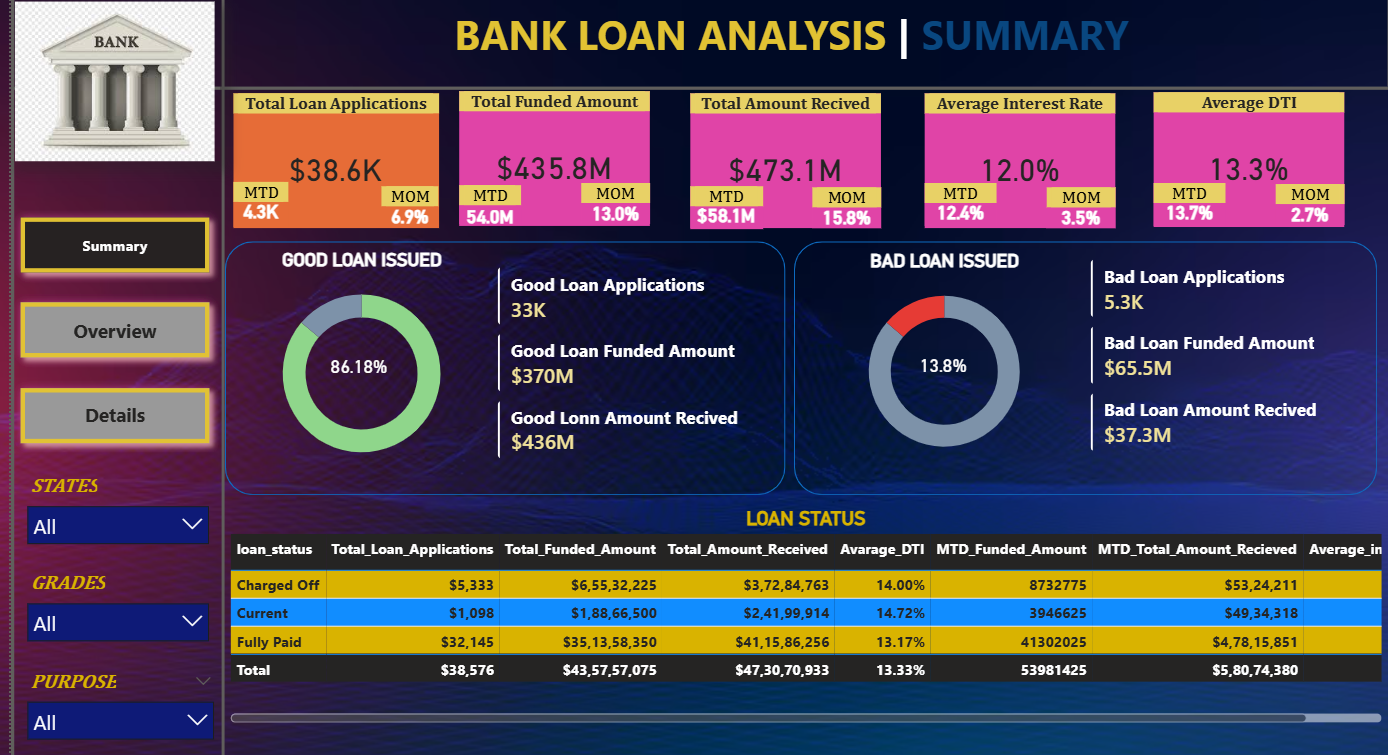

The dashboard page shown, as its layout file describes it:
{"tool":"powerbi","page":{"name":"Summary","canvas":[1280,720],"ordinal":0},"visuals":[{"type":"actionButton","box":[0,0,1280,88.9],"z":0},{"type":"actionButton","box":[0,0,198.4,711.4],"z":1000},{"type":"textbox","box":[389,7,671,60],"z":2000},{"type":"card","title":"Total Loan Applications","fields":{"Values":["Good_Loan_%.Total_Loan_Applications"]},"box":[206.4,92.2,190.4,125.2],"z":3000},{"type":"card","title":"MTD","fields":{"Values":["Good_Loan_%.MTD_Loan_App"]},"box":[206.4,174.3,51.1,42.1],"z":4000},{"type":"card","title":"MOM","fields":{"Values":["Good_Loan_%.MOM_Loan_Applications"]},"box":[343.7,178.4,53.1,38.1],"z":5000},{"type":"card","title":"Total Funded Amount","fields":{"Values":["Good_Loan_%.Total_Funded_Amount"]},"box":[416,90,177,125],"z":6000},{"type":"card","title":"MTD","fields":{"Values":["Good_Loan_%.MTD_Funded_Amount"]},"box":[415.8,177.4,57.1,36.1],"z":7000},{"type":"card","title":"MOM","fields":{"Values":["Good_Loan_%.MOM_Total Funded_Amount"]},"box":[529,175,64,38],"z":8000},{"type":"card","title":"Total Amount Recived","fields":{"Values":["Good_Loan_%.Total_Amount_Received"]},"box":[630,92,177,125],"z":9000},{"type":"card","title":"MTD","fields":{"Values":["Good_Loan_%.MTD_Total_Amount_Recieved"]},"box":[630.2,178.4,67.1,40.1],"z":10000},{"type":"card","title":"MOM","fields":{"Values":["Good_Loan_%.MOM_Total_Amount_Recieved"]},"box":[743,179,64,38],"z":11000},{"type":"card","title":"Average Interest Rate","fields":{"Values":["Good_Loan_%.Average_interest_rate"]},"box":[848,92,177,125],"z":12000},{"type":"card","title":"MTD","fields":{"Values":["Good_Loan_%.MTD_Average_int_rate"]},"box":[848,175,67,40],"z":13000},{"type":"card","title":"MOM","fields":{"Values":["Good_Loan_%.MOM AVG int rate"]},"box":[961,179,64,38],"z":14000},{"type":"card","title":"Average DTI","fields":{"Values":["Good_Loan_%.Avarage_DTI"]},"box":[1060,91,177,125],"z":15000},{"type":"card","title":"MTD","fields":{"Values":["Good_Loan_%.MTD _AVARAGE_DTI"]},"box":[1060,175,67,40],"z":16000},{"type":"card","title":"MOM","fields":{"Values":["Good_Loan_%.MOM AVG DTI"]},"box":[1173,176,64,38],"z":17000},{"type":"shape","box":[198.4,229.5,520,235.5],"z":18000},{"type":"shape","box":[726.4,229.5,541.1,235.5],"z":19000},{"type":"donutChart","title":"GOOD LOAN ISSUED","fields":{"Category":["financial_loan.Good Vs Bad Loan"],"Y":["Good_Loan_%.Total_Loan_Applications"]},"box":[206.4,236.5,238.5,212.4],"z":20000},{"type":"card","fields":{"Values":["Good_Loan_%.Good_Loan_%"]},"box":[288.6,326.6,69.1,40.1],"z":21000},{"type":"cardVisual","fields":{"Data":["Good_Loan_%.Good Loan Applications","Good_Loan_%.Good Loan Funded Amount","Good_Loan_%.Good Lonn Amount Recived"]},"box":[434.9,236.5,274.5,212.4],"z":22000},{"type":"donutChart","title":"BAD LOAN ISSUED","fields":{"Category":["financial_loan.Good Vs Bad Loan"],"Y":["Good_Loan_%.Total_Loan_Applications"]},"box":[745.5,237.5,241.5,205.4],"z":23000},{"type":"cardVisual","fields":{"Data":["Good_Loan_%.Bad Loan Applications","Good_Loan_%.Bad Loan Funded Amount","Good_Loan_%.Bad Loan Amount Recived"]},"box":[984.9,229.5,282.6,212.4],"z":24000},{"type":"card","fields":{"Values":["Good_Loan_%.Bad_Loan_%"]},"box":[824.6,325.6,81.2,41.1],"z":25000},{"type":"tableEx","title":"LOAN STATUS","fields":{"Values":["financial_loan.loan_status","Good_Loan_%.Total_Loan_Applications","Good_Loan_%.Total_Funded_Amount","Good_Loan_%.Total_Amount_Received","Good_Loan_%.Avarage_DTI","Good_Loan_%.MTD_Funded_Amount","Good_Loan_%.MTD_Total_Amount_Recieved","Good_Loan_%.Average_interest_rate"]},"box":[198.4,475.9,1078.1,205.4],"z":26000},{"type":"slicer","fields":{"Values":["financial_loan.address_state"]},"box":[5,441.9,188.4,75.1],"z":27000},{"type":"slicer","fields":{"Values":["financial_loan.grade"]},"box":[5,532.1,188.4,75.1],"z":28000},{"type":"slicer","fields":{"Values":["financial_loan.purpose"]},"box":[5,623.2,193.4,79.2],"z":29000},{"type":"pageNavigator","box":[0,198.4,193.4,229.5],"z":30000},{"type":"image","box":[0,7,193.4,148.3],"z":31000}]}

Visuals, with their boxes on the page's 1280x720 design canvas (x1, y1, x2, y2). These are canvas units, not pixel positions in the 1388x755 screenshot, which may show the page scaled, cropped or inside an application window:
actionButton: 0:0:1280:89
actionButton: 0:0:198:711
textbox: 389:7:1060:67
"Total Loan Applications" card: 206:92:397:217
"MTD" card: 206:174:258:216
"MOM" card: 344:178:397:216
"Total Funded Amount" card: 416:90:593:215
"MTD" card: 416:177:473:214
"MOM" card: 529:175:593:213
"Total Amount Recived" card: 630:92:807:217
"MTD" card: 630:178:697:218
"MOM" card: 743:179:807:217
"Average Interest Rate" card: 848:92:1025:217
"MTD" card: 848:175:915:215
"MOM" card: 961:179:1025:217
"Average DTI" card: 1060:91:1237:216
"MTD" card: 1060:175:1127:215
"MOM" card: 1173:176:1237:214
shape: 198:230:718:465
shape: 726:230:1268:465
"GOOD LOAN ISSUED" donutChart: 206:236:445:449
card - Good_Loan_%.Good_Loan_%: 289:327:358:367
cardVisual - Good_Loan_%.Good Loan Applications x Good_Loan_%.Good Loan Funded Amount: 435:236:709:449
"BAD LOAN ISSUED" donutChart: 746:238:987:443
cardVisual - Good_Loan_%.Bad Loan Applications x Good_Loan_%.Bad Loan Funded Amount: 985:230:1268:442
card - Good_Loan_%.Bad_Loan_%: 825:326:906:367
"LOAN STATUS" tableEx: 198:476:1276:681
slicer - financial_loan.address_state: 5:442:193:517
slicer - financial_loan.grade: 5:532:193:607
slicer - financial_loan.purpose: 5:623:198:702
pageNavigator: 0:198:193:428
image: 0:7:193:155
